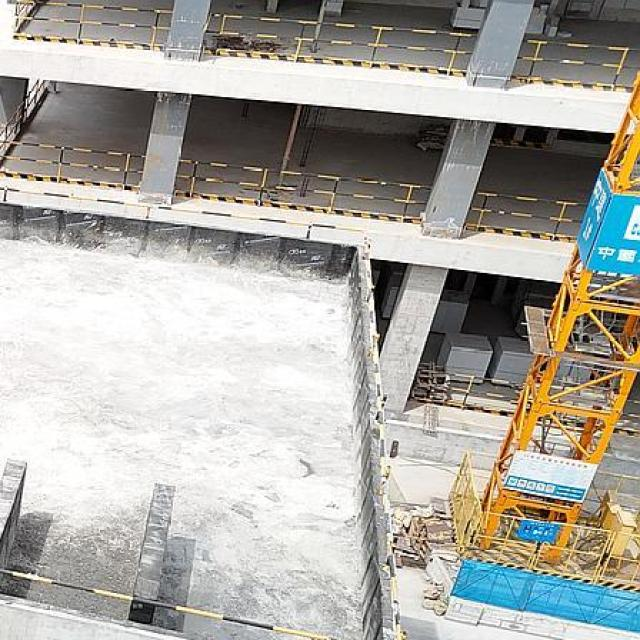edge_guardrail: (0, 185, 403, 640), (0, 567, 344, 640), (203, 12, 478, 78), (0, 80, 146, 186), (175, 158, 435, 216), (7, 0, 172, 51), (510, 38, 640, 93), (468, 190, 588, 243), (412, 367, 524, 404), (620, 398, 640, 418)
